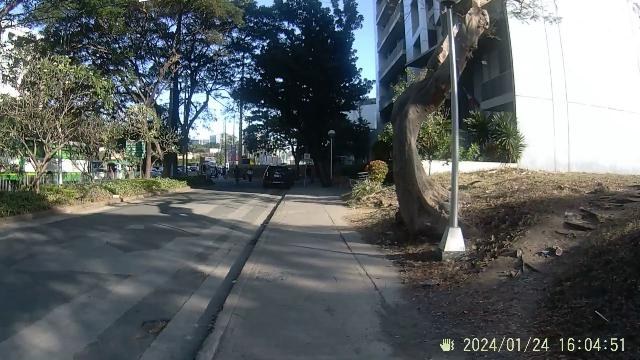lamp_post: (428, 0, 482, 260)
tree: (388, 0, 490, 248)
